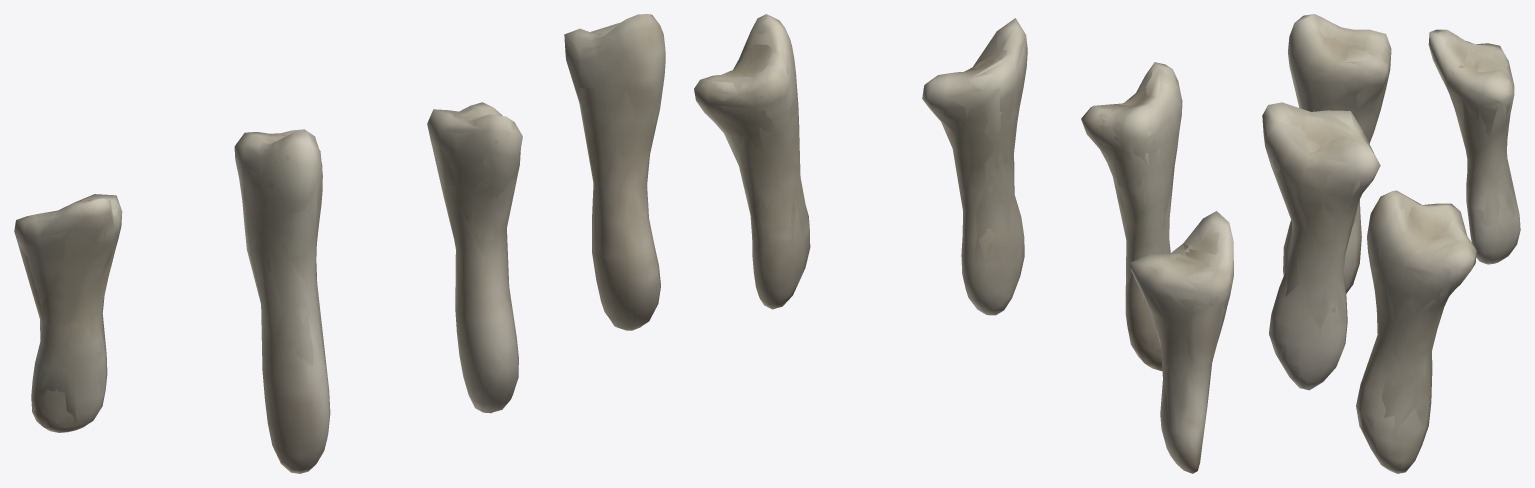
File: RB 2nd Phalanx.fbx
The picture shows the model from 3 angles, left to right: view 1: azimuth 30°, elevation 25°; view 2: azimuth 150°, elevation 25°; view 3: azimuth 270°, elevation 25°; orthographic projection. The views are drawn at different scales.
Visible parts, largest first — view 1: RB 2nd Phalanx, RB 2nd Phalanx low, RB 2nd Phalanx high; view 2: RB 2nd Phalanx, RB 2nd Phalanx low, RB 2nd Phalanx high; view 3: RB 2nd Phalanx, RB 2nd Phalanx low, RB 2nd Phalanx high.
Boxes of the visible parts, x1,y1,x2,y2 form: RB 2nd Phalanx: [14, 14, 665, 473]; RB 2nd Phalanx low: [18, 14, 664, 472]; RB 2nd Phalanx high: [29, 33, 660, 467]; RB 2nd Phalanx: [694, 14, 1233, 473]; RB 2nd Phalanx low: [695, 15, 1233, 473]; RB 2nd Phalanx high: [701, 18, 1231, 447]; RB 2nd Phalanx: [1262, 14, 1520, 473]; RB 2nd Phalanx low: [1265, 14, 1520, 467]; RB 2nd Phalanx high: [1267, 17, 1512, 470].
Size of the model in its own units: 1.9 by 1.01 by 0.7756.
1 material, 1 textured.
